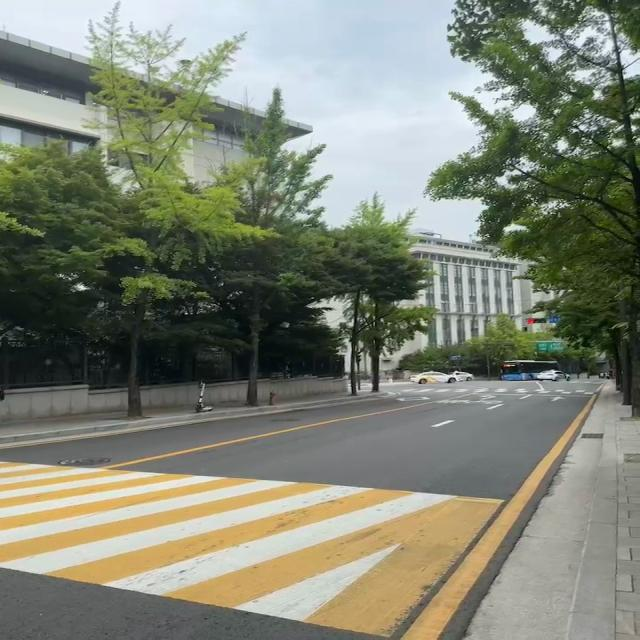building: (2, 25, 323, 197), (363, 208, 570, 344)
car: (496, 357, 560, 376), (404, 366, 461, 384)
